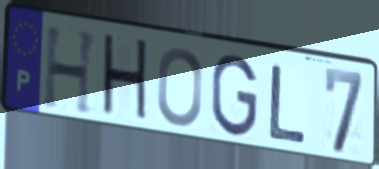7: (322, 66, 366, 157)
G: (209, 52, 259, 140)
H: (41, 24, 101, 118), (99, 30, 150, 128)
L: (267, 61, 310, 146)
O: (155, 45, 204, 129)
